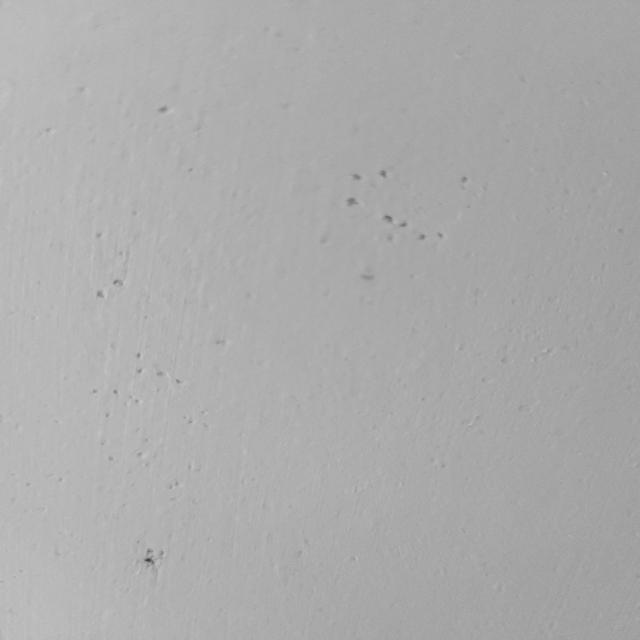rough and patchy surface: (28, 51, 245, 427), (302, 152, 640, 307), (407, 309, 640, 477), (39, 440, 269, 593)
